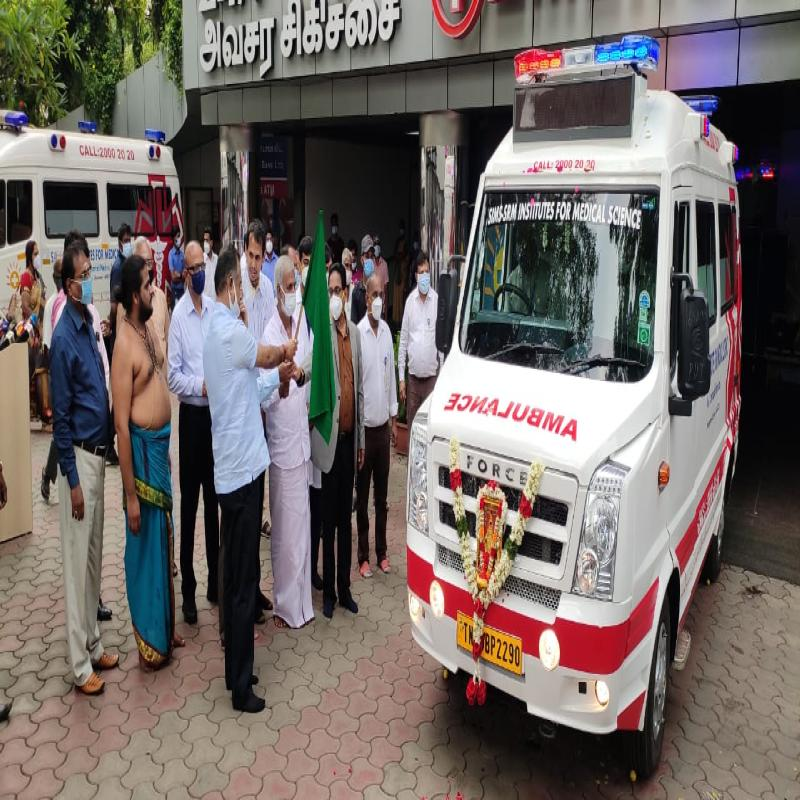AmbulanceSiren: (505, 26, 653, 106)
ambulance: (404, 25, 745, 764)
